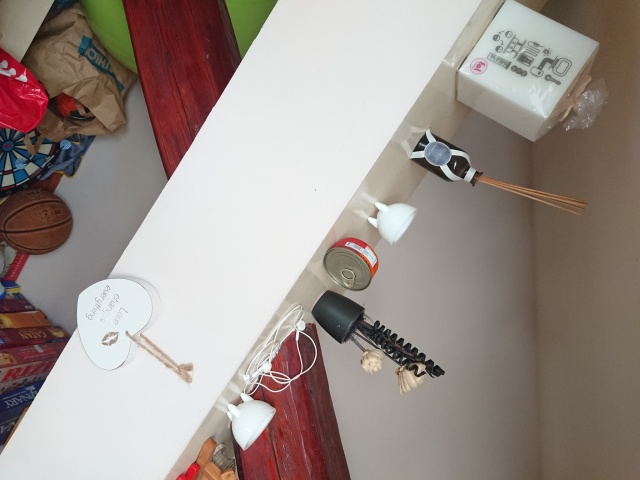Gavrilovic Pork Liver Pate 100g: (321, 236, 380, 292)
